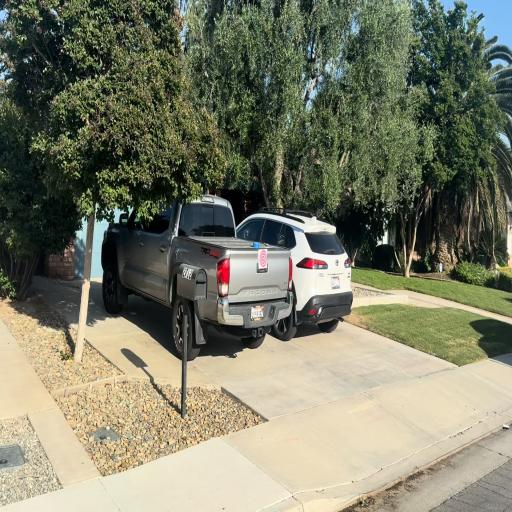bullseye: (259, 249, 267, 269)
